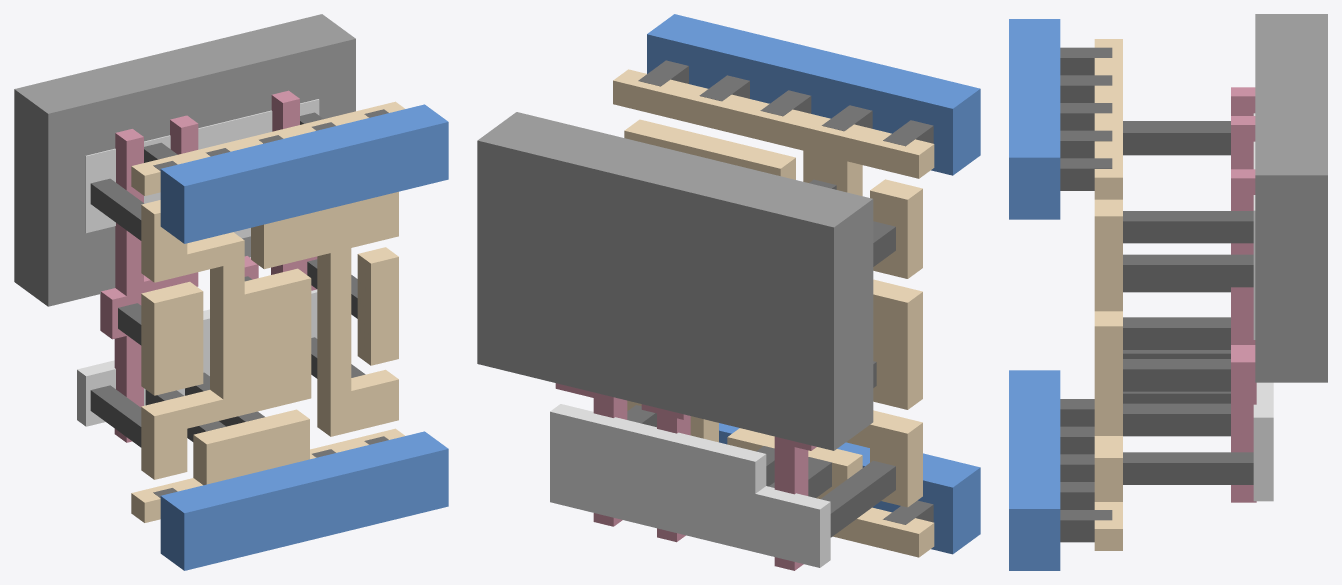
Rendered from sky130_fd_sc_hd__einvn_1.gds.gltf.
3 renders of one model, left to right at view 1: azimuth 30°, elevation 25°; view 2: azimuth 150°, elevation 25°; view 3: azimuth 270°, elevation 25°, orthographic. The views are drawn at different scales.
Parts seen in each view (by area): view 1: sky130_fd_sc_hd__einvn_1_li1, sky130_fd_sc_hd__einvn_1_met1, sky130_fd_sc_hd__einvn_1_nwell, sky130_fd_sc_hd__einvn_1_poly, sky130_fd_sc_hd__einvn_1_licon, sky130_fd_sc_hd__einvn_1_diff, sky130_fd_sc_hd__einvn_1_mcon; view 2: sky130_fd_sc_hd__einvn_1_nwell, sky130_fd_sc_hd__einvn_1_li1, sky130_fd_sc_hd__einvn_1_diff, sky130_fd_sc_hd__einvn_1_met1, sky130_fd_sc_hd__einvn_1_licon, sky130_fd_sc_hd__einvn_1_mcon, sky130_fd_sc_hd__einvn_1_poly; view 3: sky130_fd_sc_hd__einvn_1_licon, sky130_fd_sc_hd__einvn_1_nwell, sky130_fd_sc_hd__einvn_1_met1, sky130_fd_sc_hd__einvn_1_li1, sky130_fd_sc_hd__einvn_1_mcon, sky130_fd_sc_hd__einvn_1_poly, sky130_fd_sc_hd__einvn_1_diff.
Boxes of the visible parts, left/top/right/bottom form: sky130_fd_sc_hd__einvn_1_li1: left=131, top=101, right=404, bottom=522; sky130_fd_sc_hd__einvn_1_met1: left=160, top=104, right=448, bottom=570; sky130_fd_sc_hd__einvn_1_nwell: left=14, top=14, right=355, bottom=306; sky130_fd_sc_hd__einvn_1_poly: left=100, top=90, right=317, bottom=442; sky130_fd_sc_hd__einvn_1_licon: left=90, top=112, right=365, bottom=447; sky130_fd_sc_hd__einvn_1_diff: left=77, top=99, right=319, bottom=426; sky130_fd_sc_hd__einvn_1_mcon: left=153, top=109, right=388, bottom=497; sky130_fd_sc_hd__einvn_1_nwell: left=477, top=112, right=873, bottom=450; sky130_fd_sc_hd__einvn_1_li1: left=613, top=69, right=934, bottom=557; sky130_fd_sc_hd__einvn_1_diff: left=550, top=404, right=830, bottom=567; sky130_fd_sc_hd__einvn_1_met1: left=647, top=14, right=980, bottom=554; sky130_fd_sc_hd__einvn_1_licon: left=627, top=179, right=895, bottom=537; sky130_fd_sc_hd__einvn_1_mcon: left=638, top=60, right=933, bottom=524; sky130_fd_sc_hd__einvn_1_poly: left=555, top=383, right=816, bottom=570; sky130_fd_sc_hd__einvn_1_licon: left=1123, top=121, right=1253, bottom=484; sky130_fd_sc_hd__einvn_1_nwell: left=1255, top=14, right=1327, bottom=382; sky130_fd_sc_hd__einvn_1_met1: left=1009, top=19, right=1060, bottom=570; sky130_fd_sc_hd__einvn_1_li1: left=1094, top=39, right=1122, bottom=550; sky130_fd_sc_hd__einvn_1_mcon: left=1060, top=47, right=1112, bottom=542; sky130_fd_sc_hd__einvn_1_poly: left=1231, top=87, right=1256, bottom=502; sky130_fd_sc_hd__einvn_1_diff: left=1253, top=113, right=1273, bottom=501.
Bounding box in the file's own units: 2.68 × 3.2 × 2.24.
